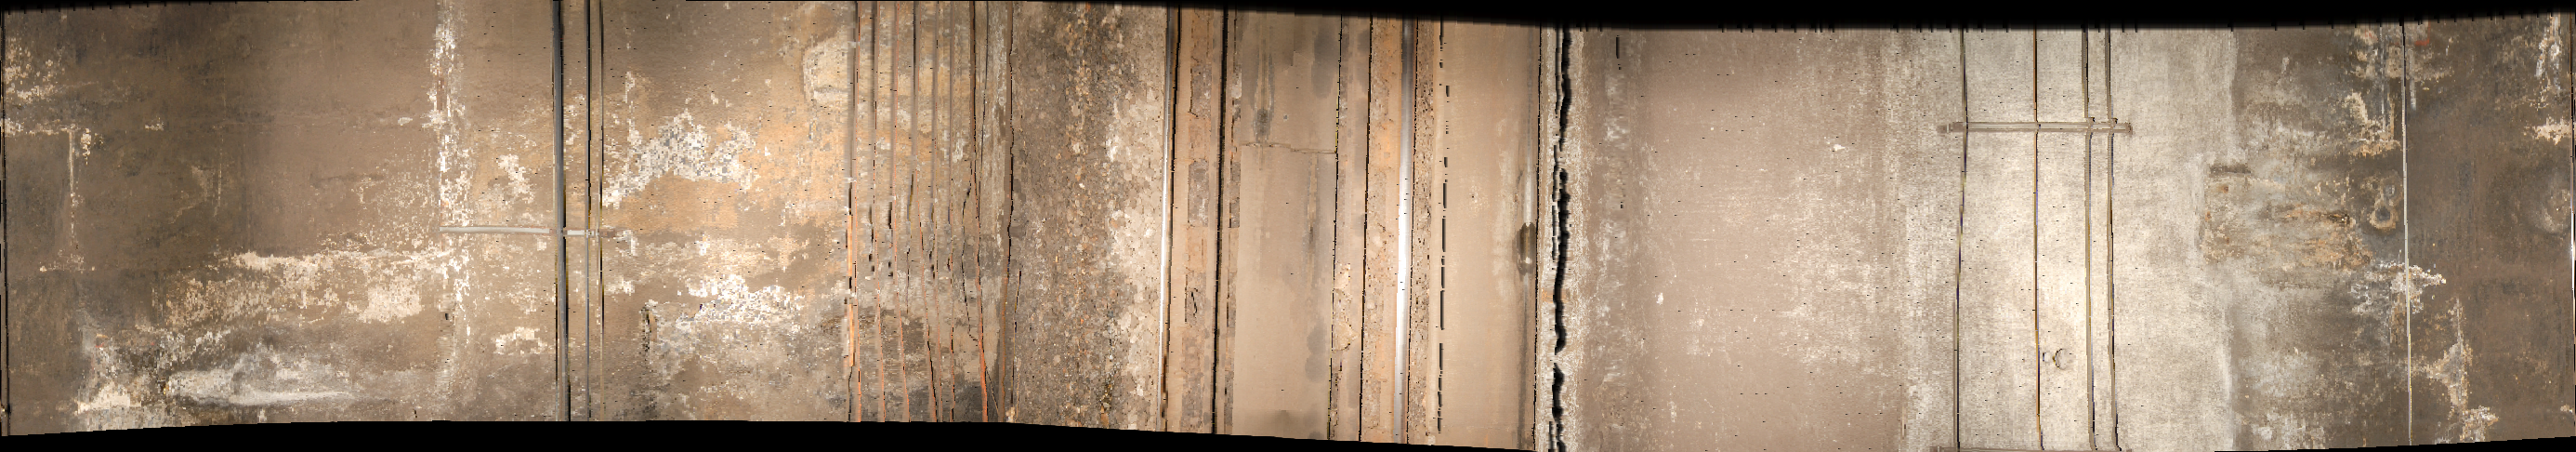pipes: (545, 3, 613, 439), (2369, 20, 2418, 452), (2075, 23, 2124, 452), (2022, 23, 2055, 452), (1950, 33, 1976, 452)
tracks: (1157, 3, 1580, 452)
